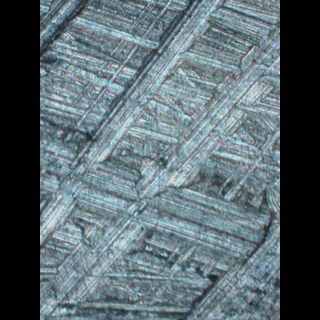d: (44, 8, 280, 315), (178, 212, 279, 319)
